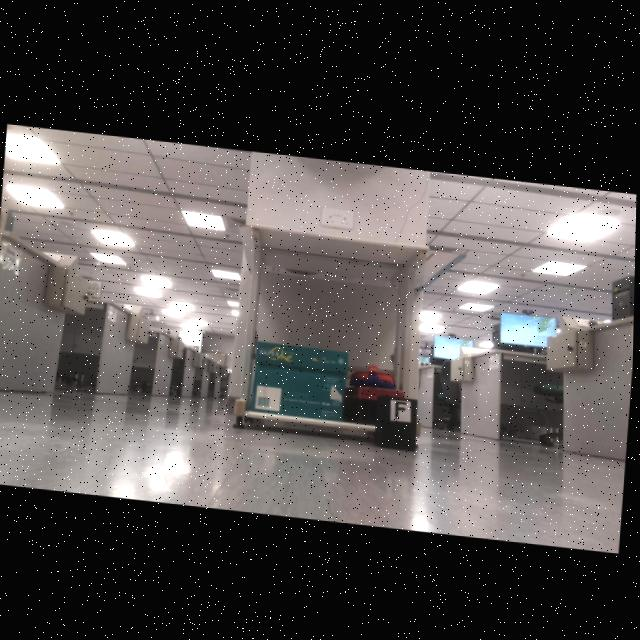F: (397, 397, 408, 414)
